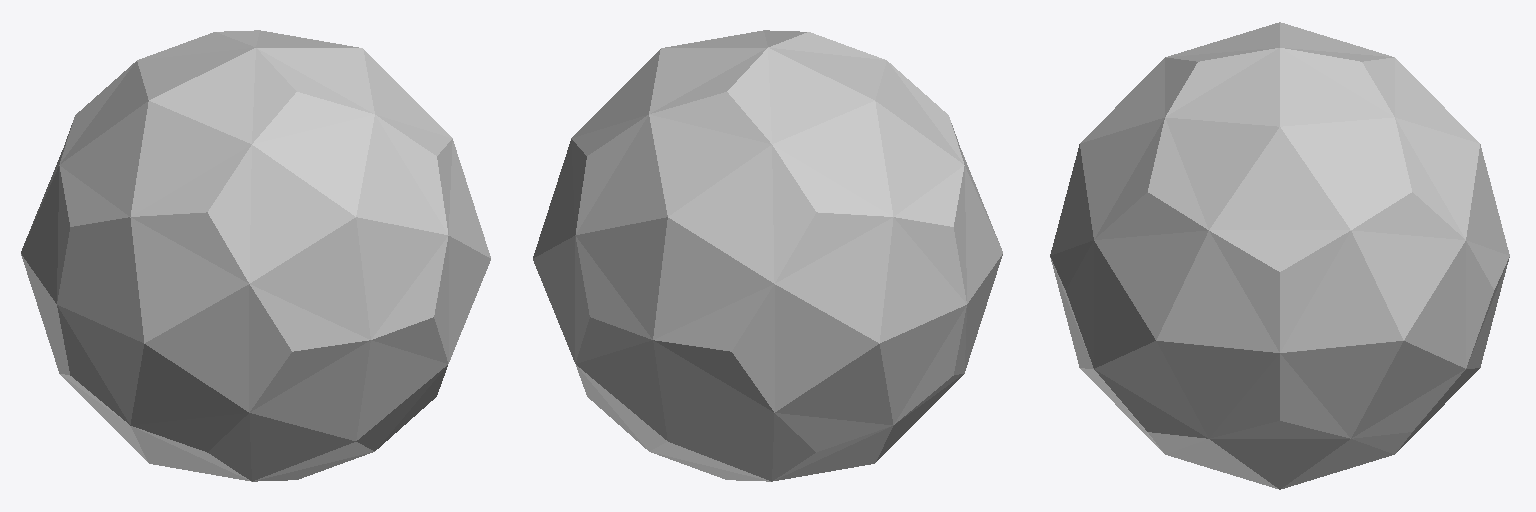
File: moontest-02.obj
3 views of the same model, side by side, from view 1: azimuth 30°, elevation 25°; view 2: azimuth 150°, elevation 25°; view 3: azimuth 270°, elevation 25° (orthographic).
Visible parts, largest first — view 1: pSolid5; view 2: pSolid5; view 3: pSolid5.
Part boxes in pixels (x1,y1,x2,y2): pSolid5: (21,30,490,481); pSolid5: (533,30,1002,481); pSolid5: (1050,22,1509,489).
Bounding box in the file's own units: 0.6637 × 0.6637 × 0.6637.